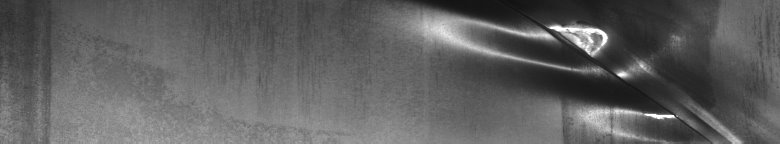ke: (424, 4, 734, 136)
